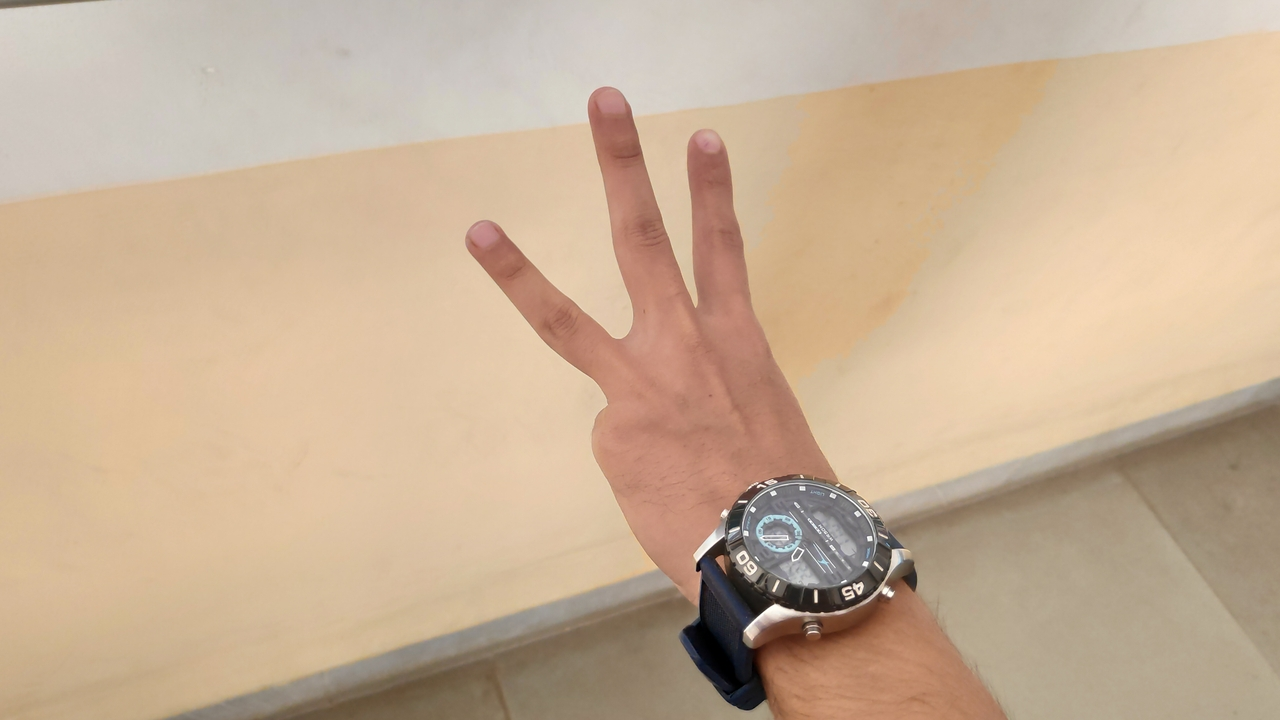fingertip: (454, 210, 520, 266), (682, 120, 736, 170), (582, 82, 638, 124)
